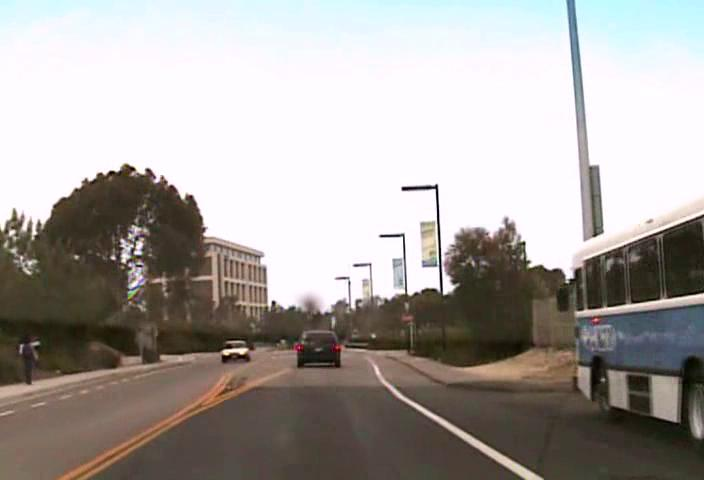stop: (399, 311, 413, 325)
